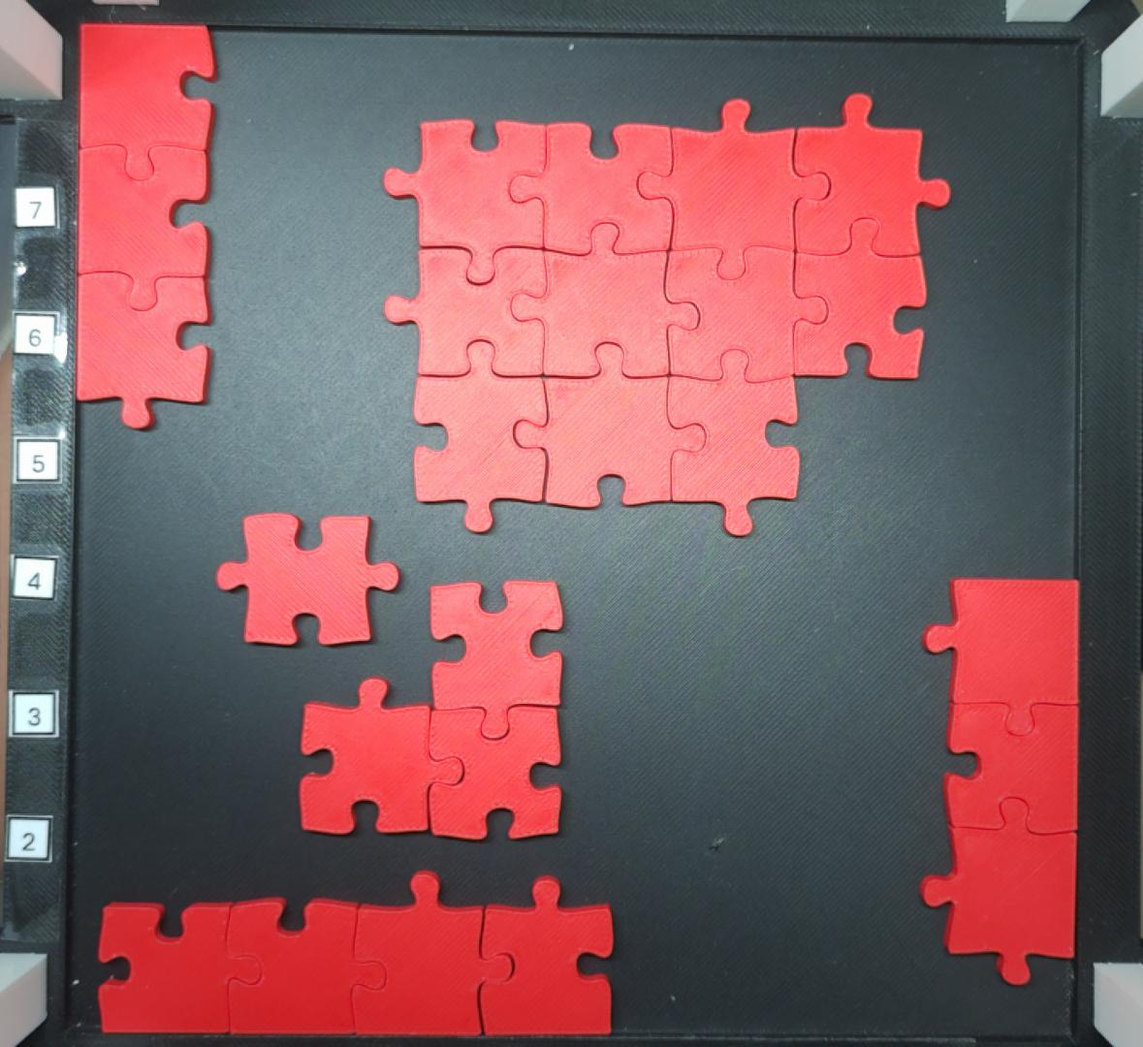p_1: (213, 508, 402, 651)
p_3: (297, 579, 565, 842), (919, 577, 1081, 989), (74, 19, 219, 431)
p_4: (96, 868, 618, 1041)
p_m: (381, 92, 952, 541)
